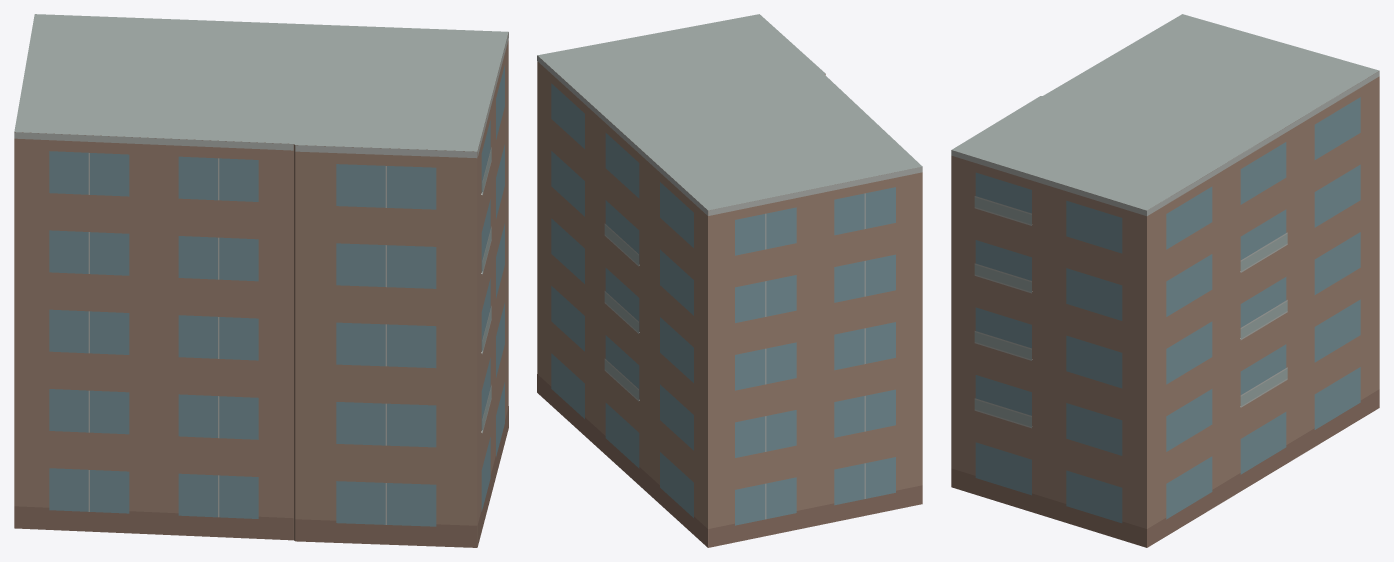
Rendered from survey-upis-32856569.glb.
The picture shows the model from 3 angles, left to right: view 1: azimuth 30°, elevation 25°; view 2: azimuth 150°, elevation 25°; view 3: azimuth 270°, elevation 25°; orthographic projection. The views are drawn at different scales.
Visible parts, largest first — view 1: survey-upis-32856569.tmp; view 2: survey-upis-32856569.tmp; view 3: survey-upis-32856569.tmp.
Boxes of the visible parts, bbox=[...] form: survey-upis-32856569.tmp: bbox=[14, 14, 508, 547]; survey-upis-32856569.tmp: bbox=[537, 14, 922, 547]; survey-upis-32856569.tmp: bbox=[951, 14, 1379, 547].
Size of the model in its own units: 18.27 by 14.6 by 16.81.
